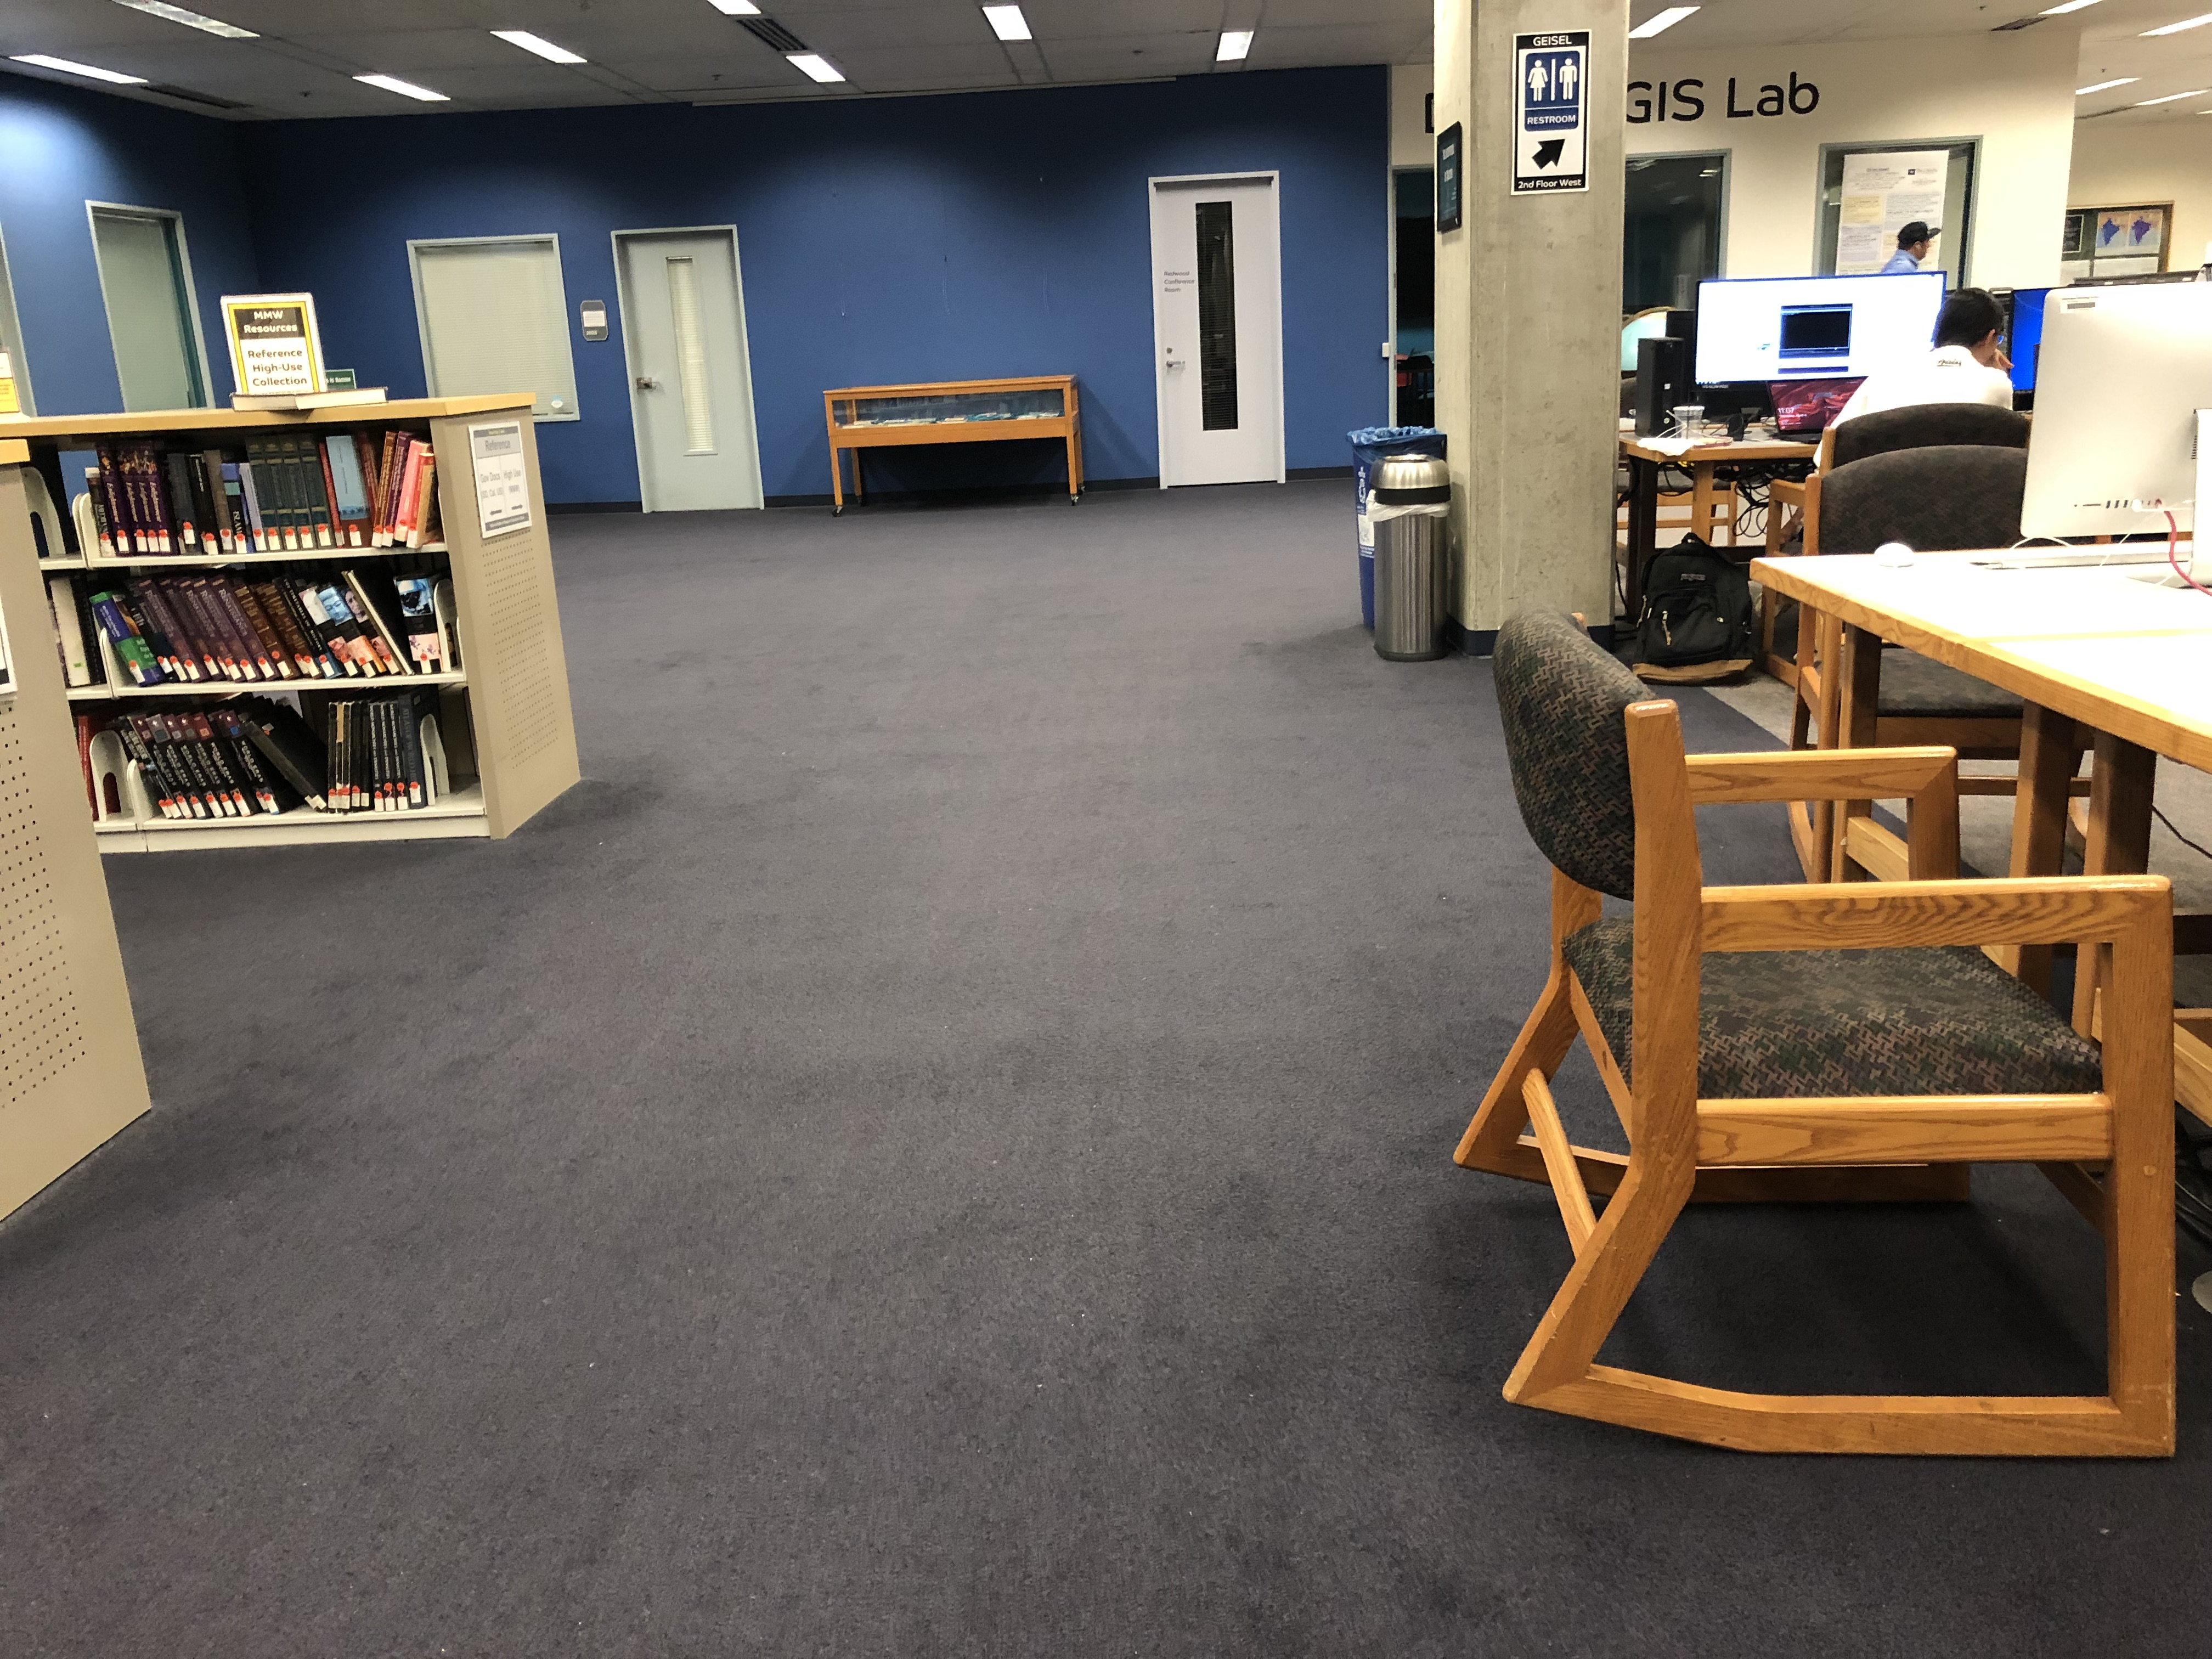Obstacle: (1491, 448, 2200, 1493), (14, 361, 589, 877), (1367, 14, 1629, 660), (9, 462, 120, 1204)
